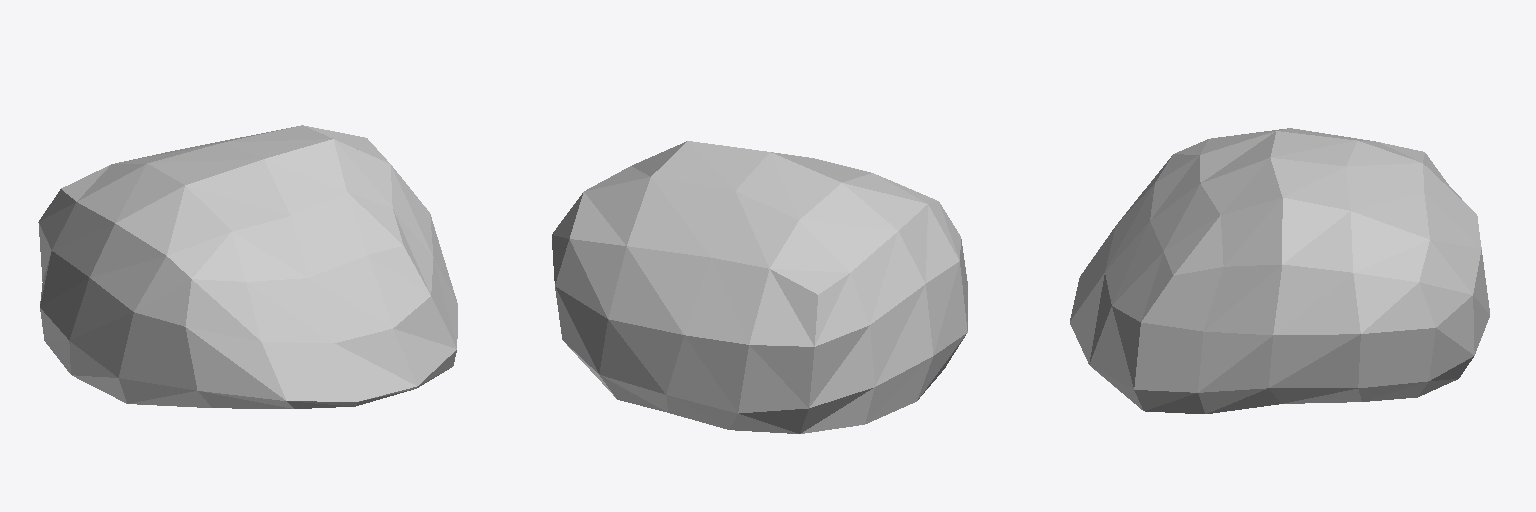
Rendered from Rock_A_03_LOD1.obj.
The picture shows the model from 3 angles: view 1: azimuth 30°, elevation 25°; view 2: azimuth 150°, elevation 25°; view 3: azimuth 270°, elevation 25°; orthographic projection.
Visible parts, largest first — view 1: Rock_A_03_LOD1_Cube.540; view 2: Rock_A_03_LOD1_Cube.540; view 3: Rock_A_03_LOD1_Cube.540.
Boxes of the visible parts, box(x1,y1,x2,y2) form: Rock_A_03_LOD1_Cube.540: box(38, 125, 457, 408); Rock_A_03_LOD1_Cube.540: box(552, 141, 967, 433); Rock_A_03_LOD1_Cube.540: box(1070, 128, 1489, 413).
Size of the model in its own units: 4.46 by 2.41 by 4.61.